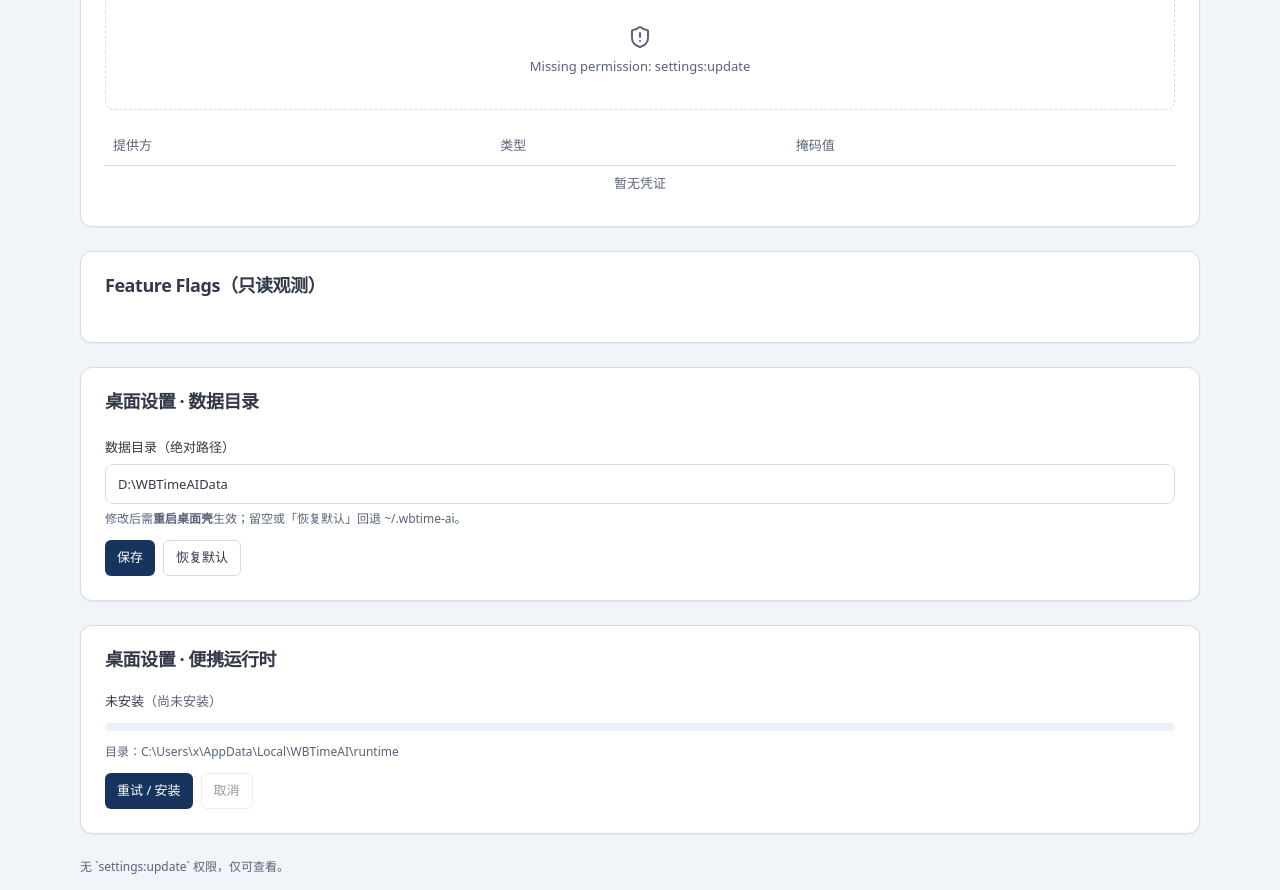
Test case: Settings · 桌面数据目录 Card › 恢复默认 → setSettings({ dataDir: '' }) + 反馈
The image size is (1280, 890).
(page scrolled)
Expected: the element with test id "desktop-data-dir-card" is shown, [80,366,1200,600]
Click the button with test id "desktop-data-dir-reset".
click(202, 558)  # box [163,540,241,576]
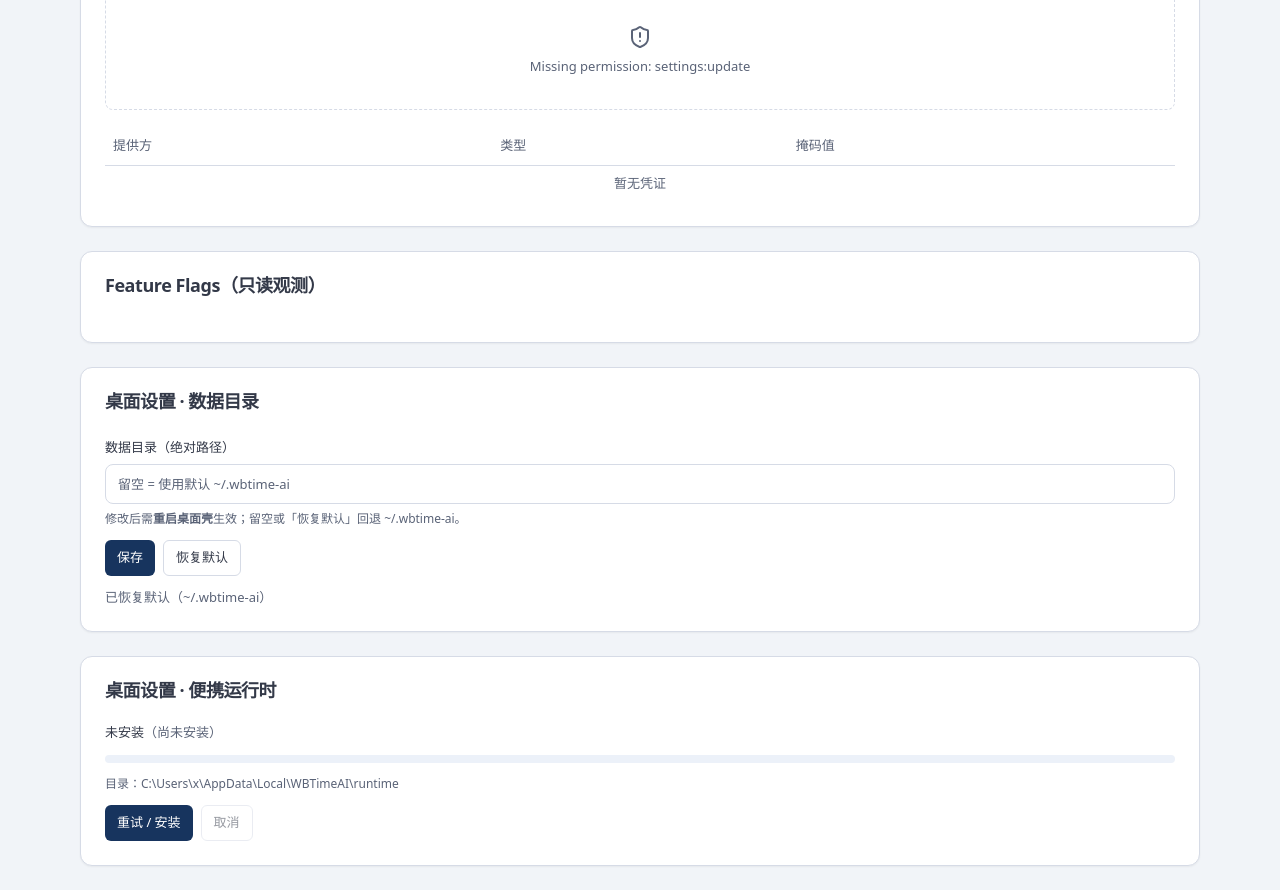
Result: the text with test id "desktop-data-dir-feedback" reads "已恢复默认（~/.wbtime-ai）" at [105,588,272,606]
